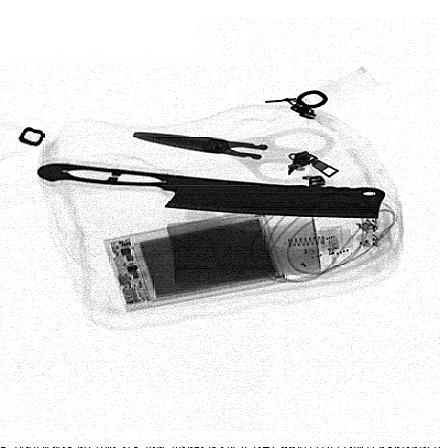Knife: (34, 159, 386, 218)
Powerbank: (96, 209, 289, 312)
Scissors: (128, 127, 337, 185)
